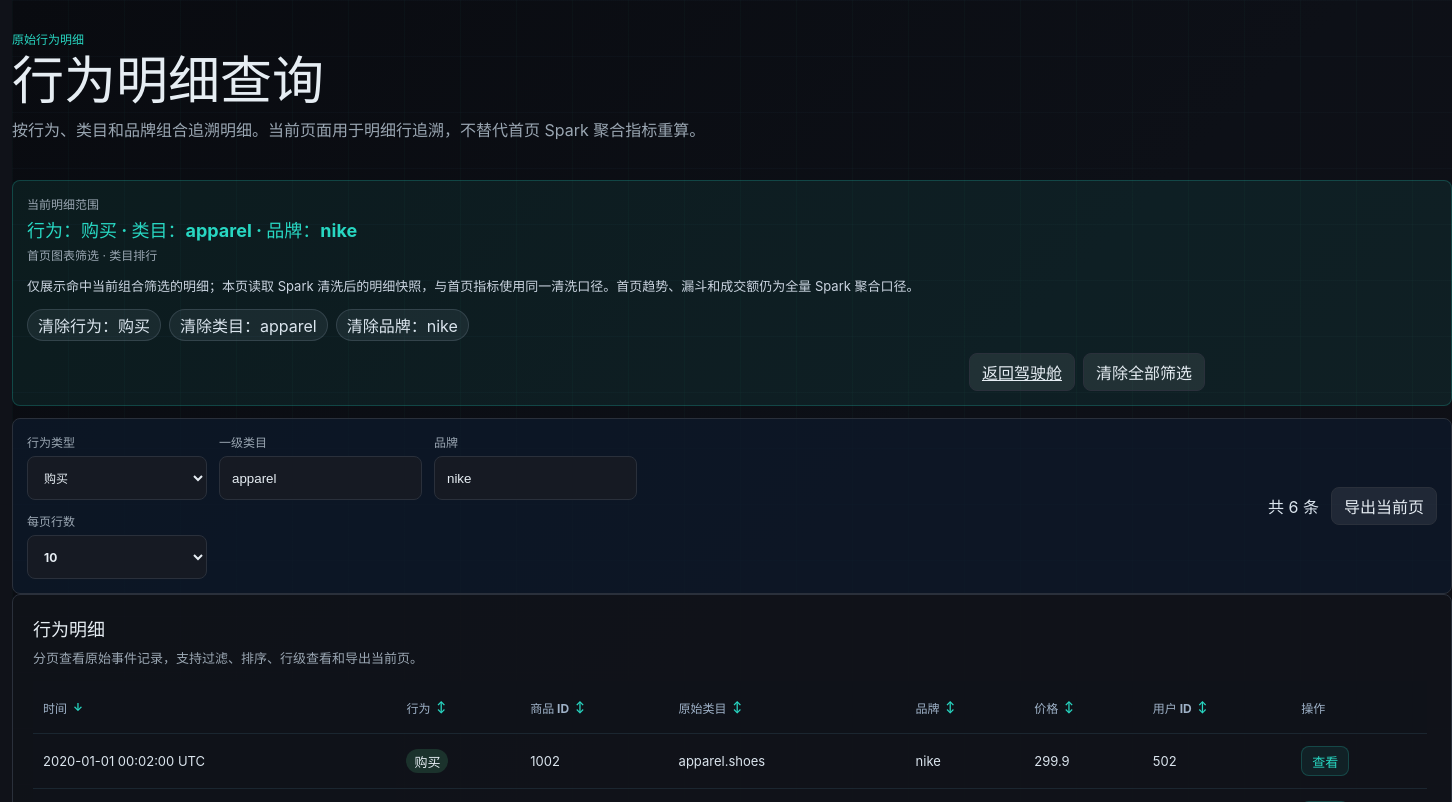
Scenario: TablePage › clears one combination filter without dropping the rest
Click the button "清除品牌：nike" at (402,325), box x1=336 y1=309 x2=469 y2=341
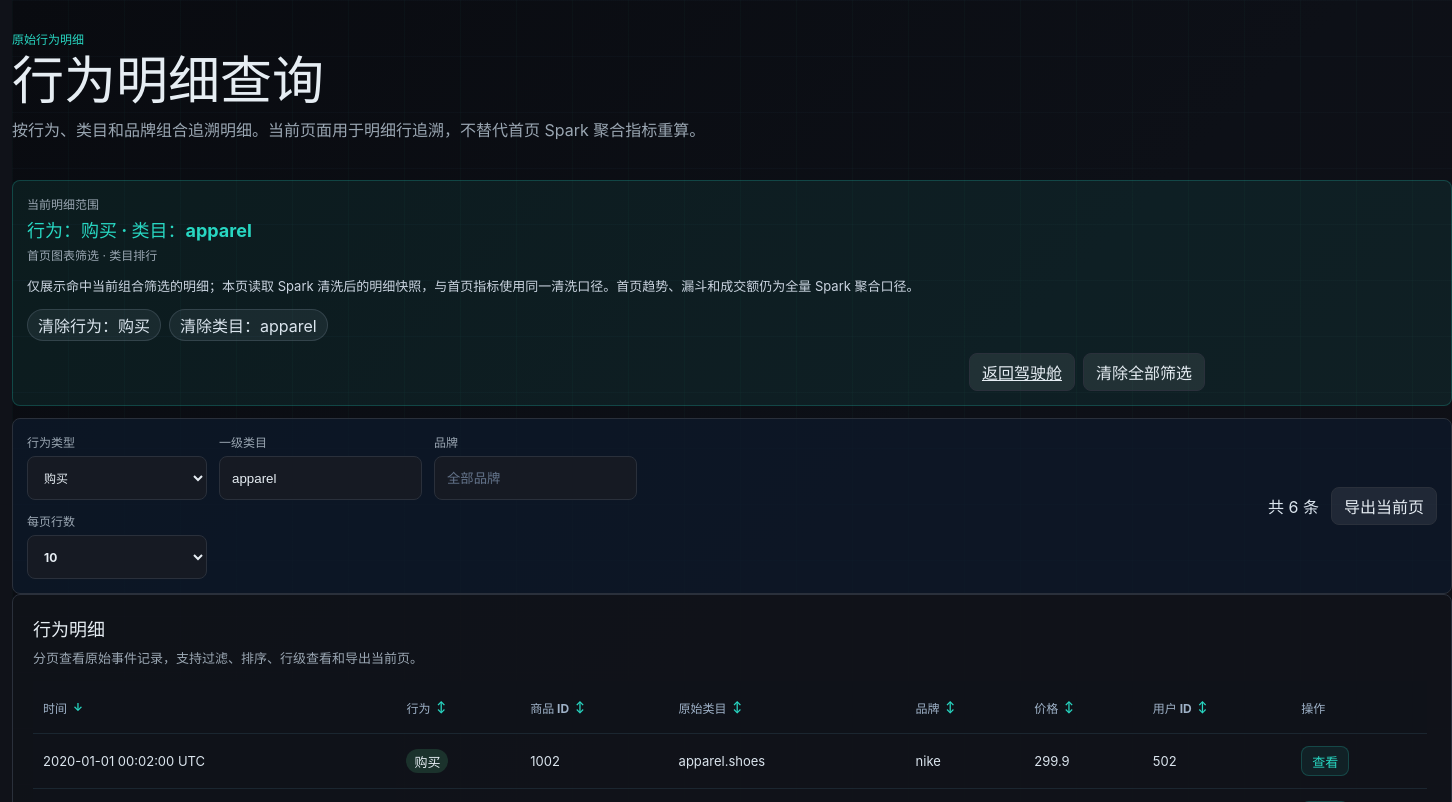
Expected: the element labelled "当前明细范围" shows "行为：购买", x1=27 y1=309 x2=161 y2=341
Expected: the element labelled "当前明细范围" no longer shows "品牌：nike", x1=12 y1=180 x2=1451 y2=406
Expected: the field labelled "品牌" is empty, x1=434 y1=456 x2=637 y2=500
